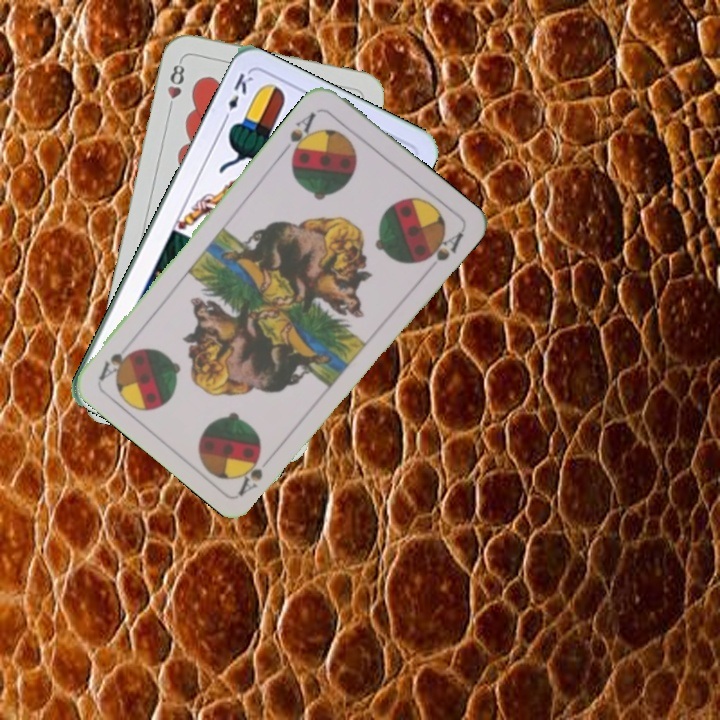EK: (219, 69, 256, 125)
H8: (163, 56, 188, 115)
SA: (278, 107, 320, 162), (234, 453, 266, 498)
